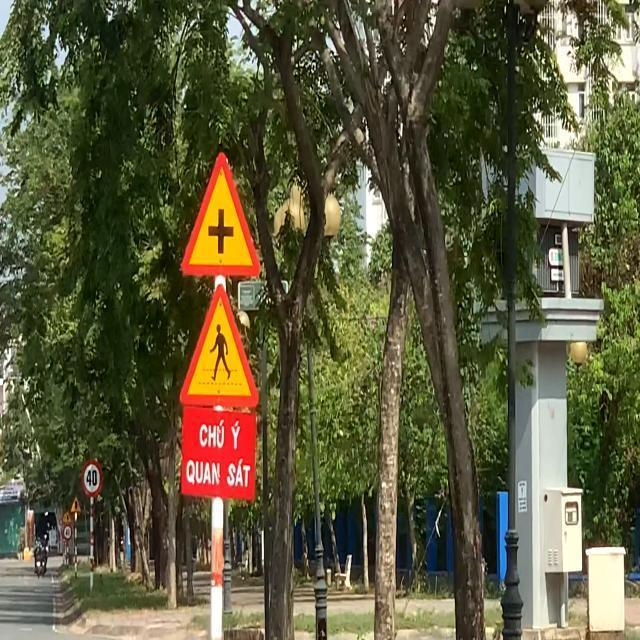127-toc-do-toi-da-40: (80, 460, 106, 498)
205-duong-giao-nhau: (178, 152, 264, 281)
207-giao-nhau-voi-duong-khong-uu-tien: (70, 496, 82, 514)
224-duong-nguoi-di-bo-cat-ngang: (173, 286, 264, 406)
